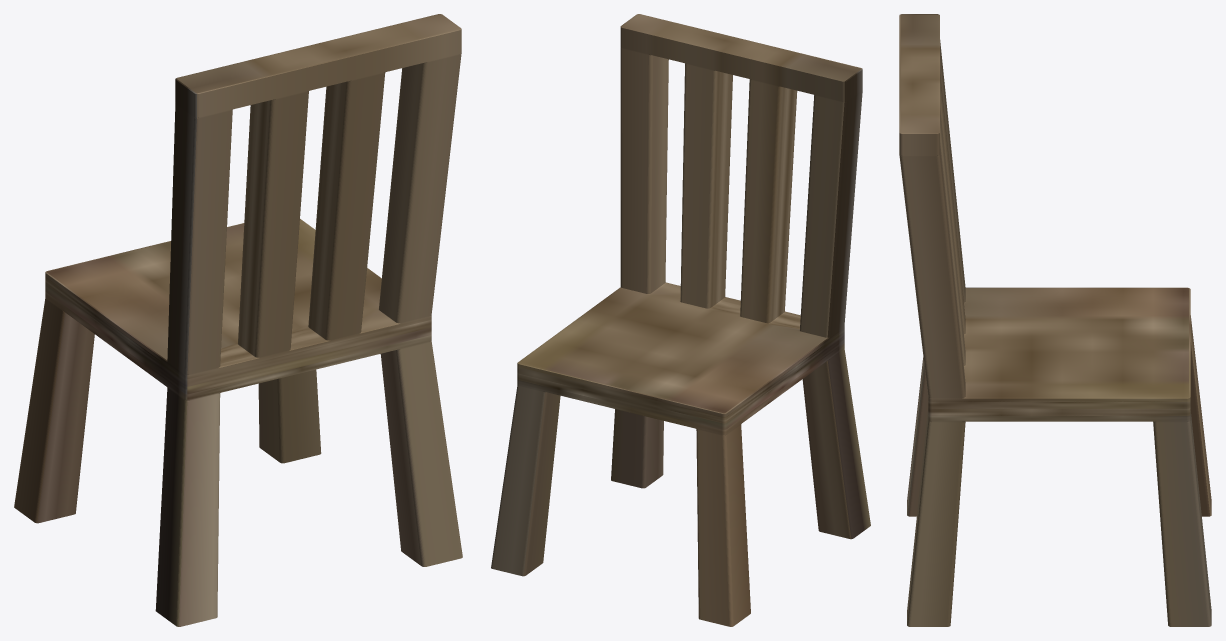
The model's file is newchair.fbx.
3 renders of one model, left to right at view 1: azimuth 30°, elevation 25°; view 2: azimuth 150°, elevation 25°; view 3: azimuth 270°, elevation 25°, orthographic. The views are drawn at different scales.
Parts seen in each view (by area): view 1: Cube; view 2: Cube; view 3: Cube.
Part boxes in pixels (bbox=[...]): Cube: bbox=[14, 14, 462, 626]; Cube: bbox=[491, 14, 870, 626]; Cube: bbox=[899, 14, 1211, 626].
Bounding box in the file's own units: 232 × 413 × 238.
